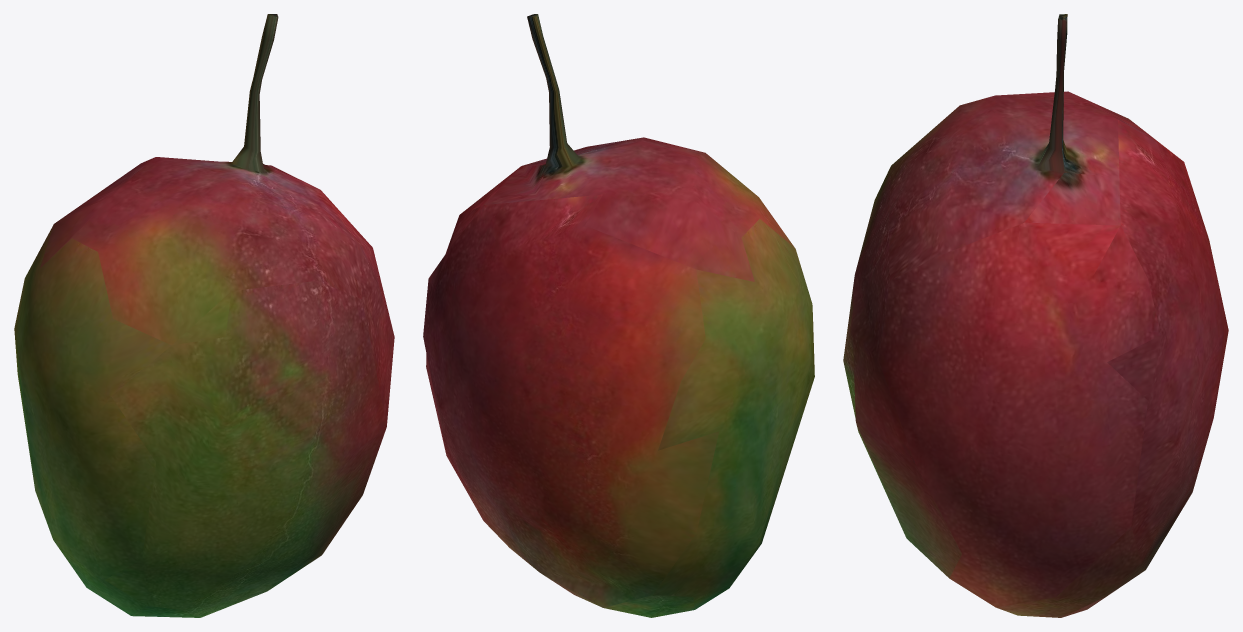
The picture shows the model from 3 angles, left to right: view 1: azimuth 30°, elevation 25°; view 2: azimuth 150°, elevation 25°; view 3: azimuth 270°, elevation 25°; orthographic projection. The views are drawn at different scales.
Visible parts, largest first — view 1: 01_mango; view 2: 01_mango; view 3: 01_mango.
Boxes of the visible parts, bbox=[...] form: 01_mango: bbox=[14, 14, 394, 617]; 01_mango: bbox=[423, 14, 814, 617]; 01_mango: bbox=[843, 14, 1228, 617].
Size of the model in its own units: 78.86 by 125 by 68.71.
